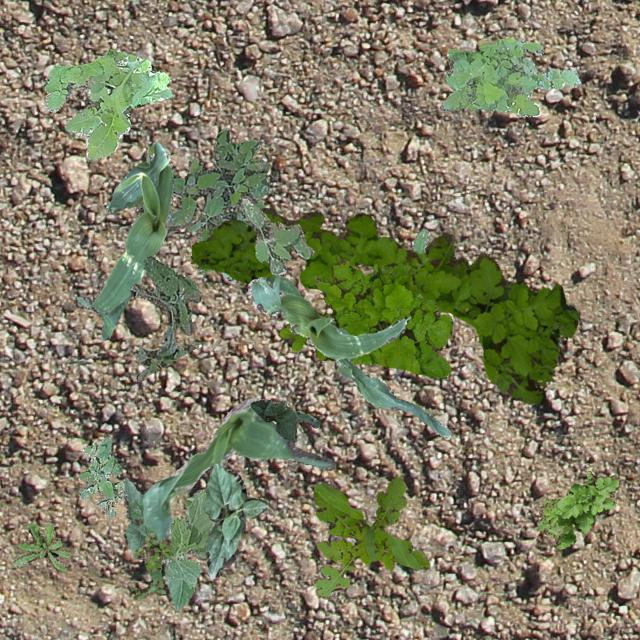crop: (246, 274, 449, 436), (142, 398, 334, 542), (76, 140, 172, 338), (202, 462, 268, 580), (160, 488, 210, 608), (121, 476, 148, 554), (250, 398, 296, 441)
weed: (190, 206, 578, 404), (278, 258, 452, 376), (166, 128, 268, 282), (42, 48, 172, 160), (312, 474, 428, 598), (441, 36, 579, 116), (128, 256, 200, 380), (538, 470, 618, 548), (240, 196, 312, 274), (78, 436, 122, 518), (12, 522, 70, 570), (132, 530, 170, 598), (411, 226, 428, 254)
